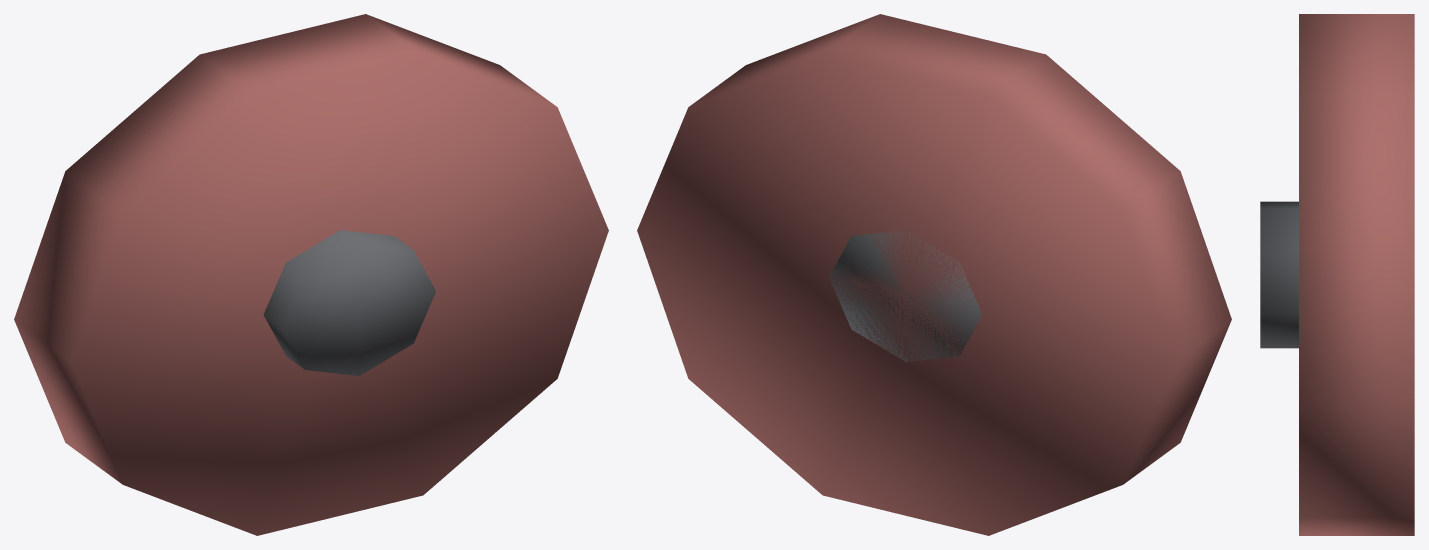
Rendered from hose_reel_04.glb.
The picture shows the model from 3 angles, left to right: view 1: azimuth 30°, elevation 25°; view 2: azimuth 150°, elevation 25°; view 3: azimuth 270°, elevation 25°; orthographic projection.
Parts seen in each view (by area): view 1: world; view 2: world; view 3: world.
Part boxes in pixels (x1,y1,x2,y2): world: [14, 14, 608, 535]; world: [637, 14, 1231, 535]; world: [1260, 14, 1414, 535].
Bounding box in the file's own units: 0.6272 × 0.49 × 0.1552.
